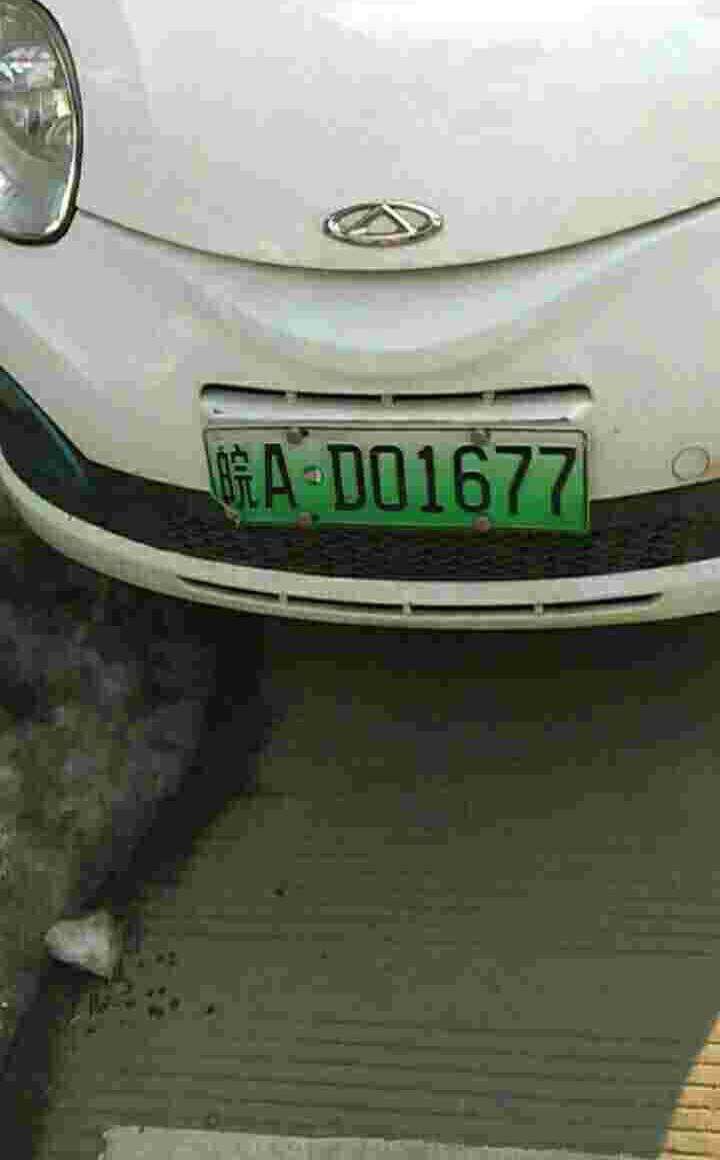car_id: (204, 428, 586, 527)
